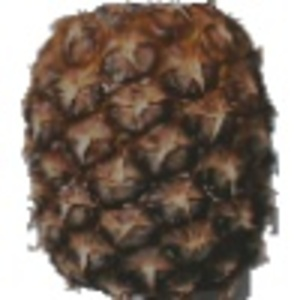abacaxi: (18, 6, 284, 293)
